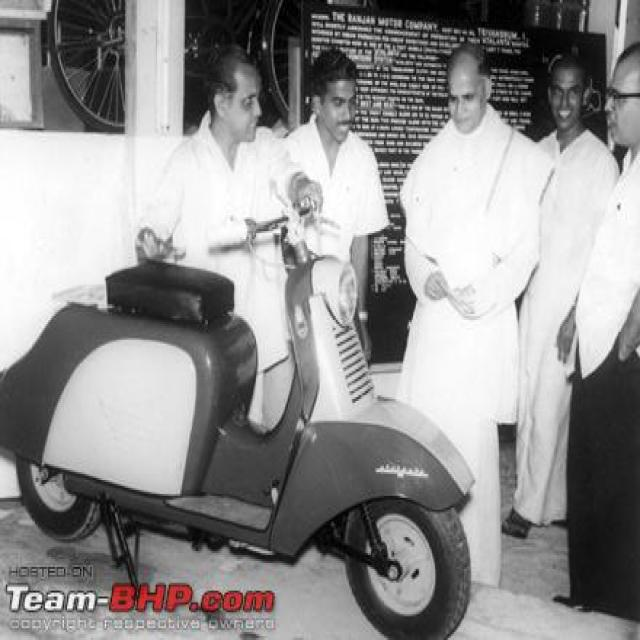motorcycle: (0, 204, 472, 637)
